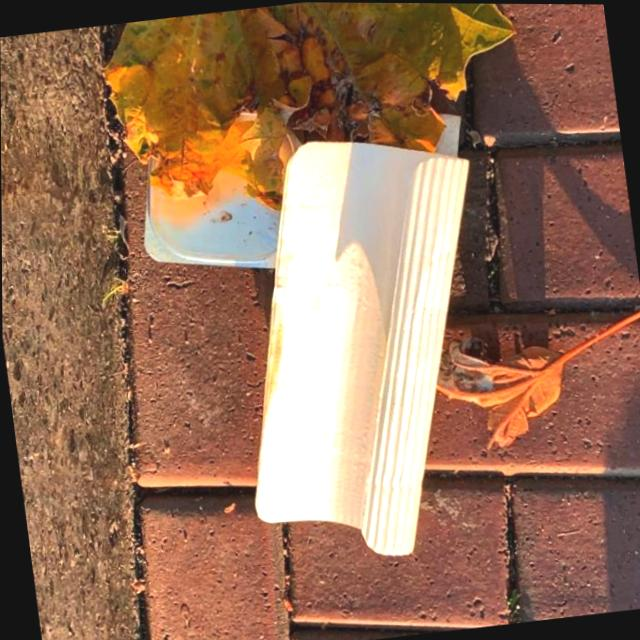Paper: (206, 118, 519, 575)
